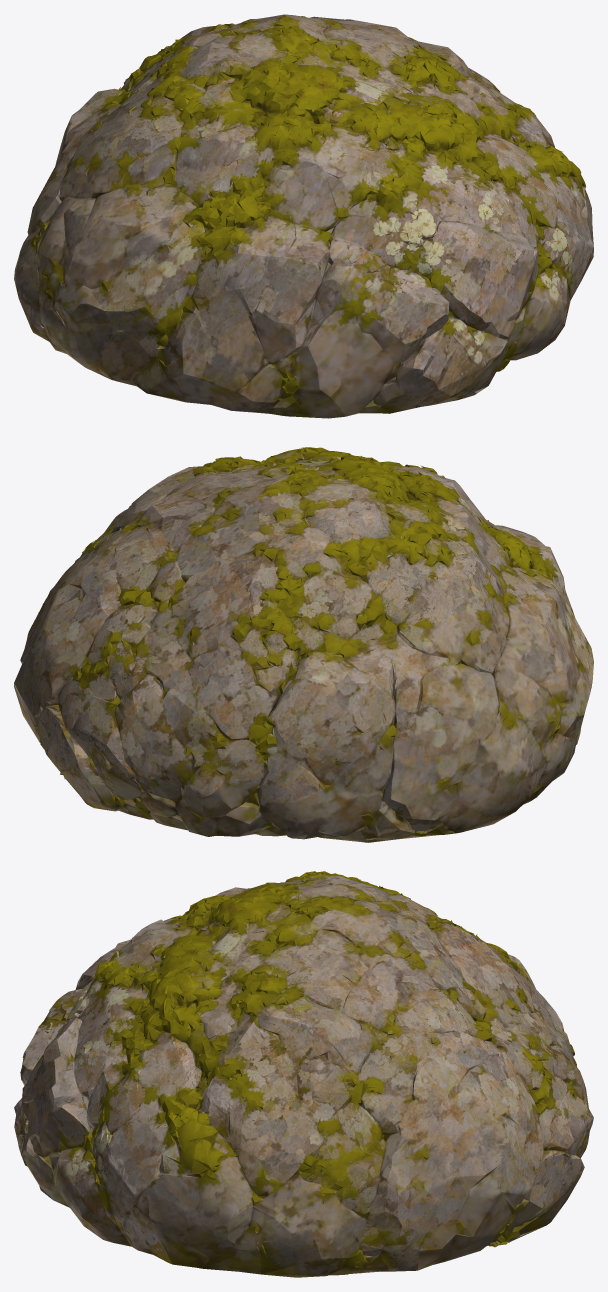
The model's file is boulder_a.glb.
The picture shows the model from 3 angles, top to bottom: view 1: azimuth 30°, elevation 25°; view 2: azimuth 150°, elevation 25°; view 3: azimuth 270°, elevation 25°; orthographic projection.
Bounding box in the file's own units: 1.9 × 0.9806 × 1.88.
Materials: 1 (1 with a texture image).
